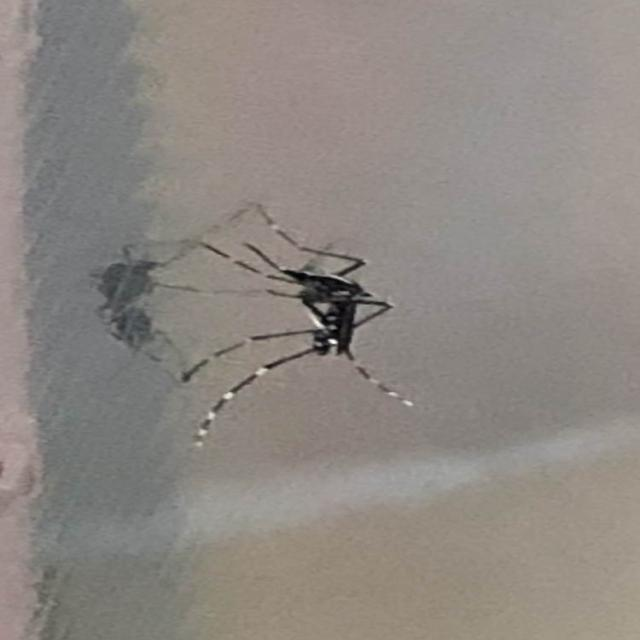albopictus: (89, 190, 448, 461)
